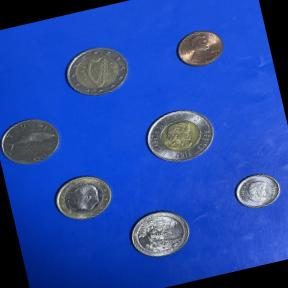1 Euro-B: (47, 166, 120, 230)
2 Euro-B: (57, 39, 138, 104)
Canada-10cent-B: (225, 166, 286, 217)
Canada-2Dollar-B: (135, 97, 228, 175)
Croatia-2Kune-B: (0, 107, 68, 172)
US-1cent-B: (168, 21, 232, 76)
US-25cent-B: (120, 202, 198, 268)
